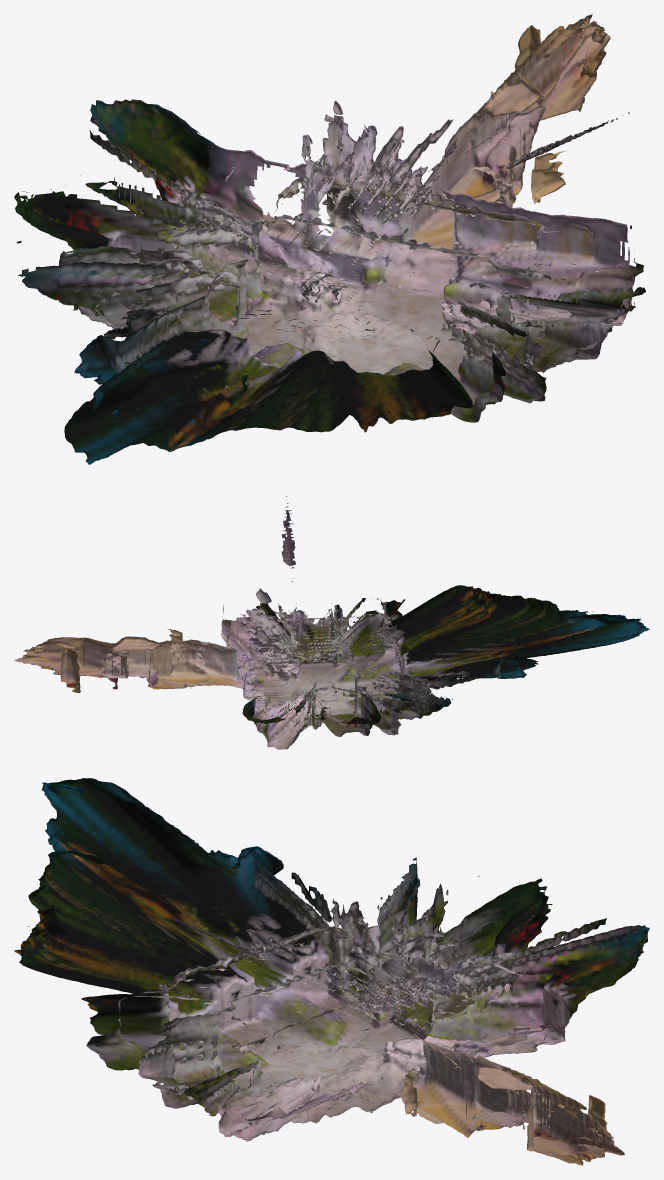
Rendered from lavender-patio-1-1-E2_collider.glb.
The picture shows the model from 3 angles, top to bottom: view 1: azimuth 30°, elevation 25°; view 2: azimuth 150°, elevation 25°; view 3: azimuth 270°, elevation 25°; orthographic projection. The views are drawn at different scales.
Parts seen in each view (by area): view 1: world; view 2: world; view 3: world.
Part boxes in pixels (x1,y1,x2,y2): world: [14, 14, 645, 464]; world: [14, 496, 649, 749]; world: [14, 778, 649, 1165].
Size of the model in its own units: 30.76 by 9.24 by 23.38.
